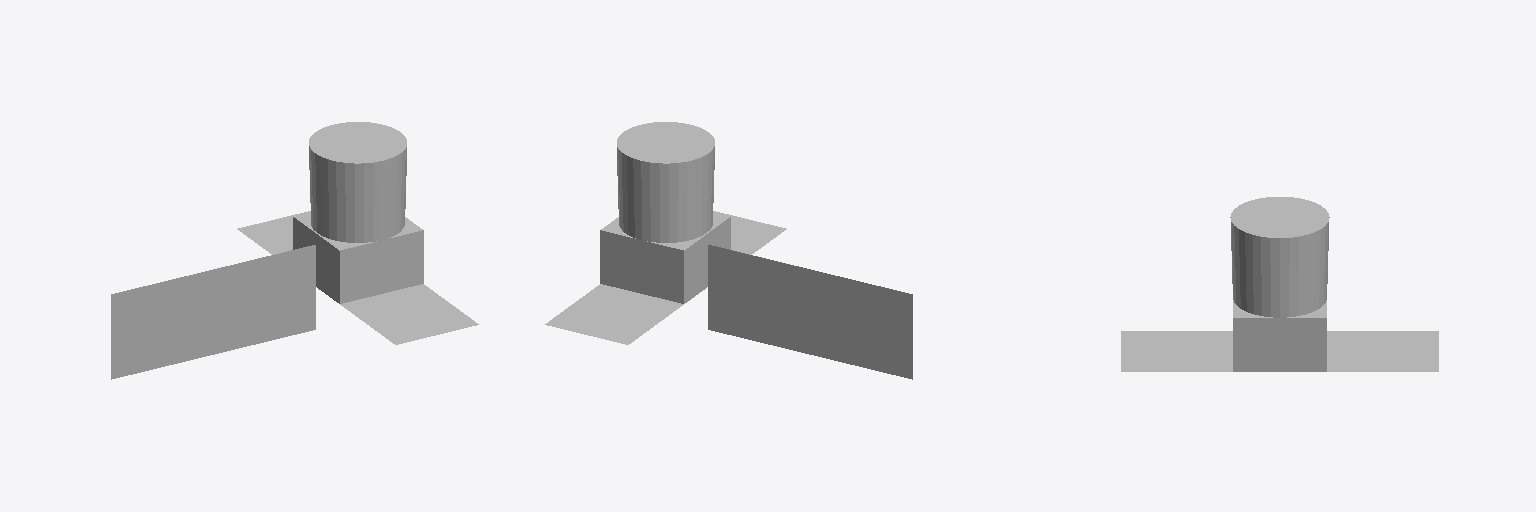
File: straight_combined_LAMP_full_90.obj
The picture shows the model from 3 angles: view 1: azimuth 30°, elevation 25°; view 2: azimuth 150°, elevation 25°; view 3: azimuth 270°, elevation 25°; orthographic projection.
Visible parts, largest first — view 1: 27U_combined_case_straight_solar.001, 27U_combined_case_straight_solar.000; view 2: 27U_combined_case_straight_solar.001, 27U_combined_case_straight_solar.000; view 3: 27U_combined_case_straight_solar.001.
Part boxes in pixels (bbox=[...]): 27U_combined_case_straight_solar.001: bbox=[237, 122, 478, 344]; 27U_combined_case_straight_solar.000: bbox=[111, 245, 315, 379]; 27U_combined_case_straight_solar.001: bbox=[545, 122, 786, 344]; 27U_combined_case_straight_solar.000: bbox=[708, 245, 912, 379]; 27U_combined_case_straight_solar.001: bbox=[1121, 197, 1438, 371].
Size of the model in its own units: 1.24 by 0.725 by 1.18.